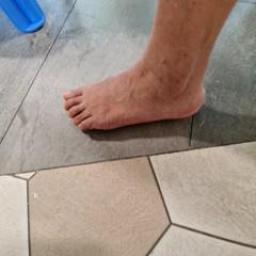Lateral View -Left Foot-: (43, 38, 229, 145)
